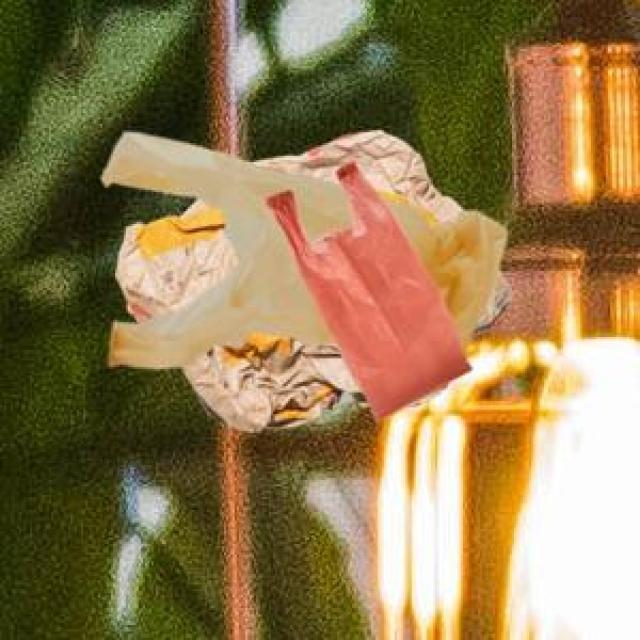paper: (111, 126, 508, 427)
